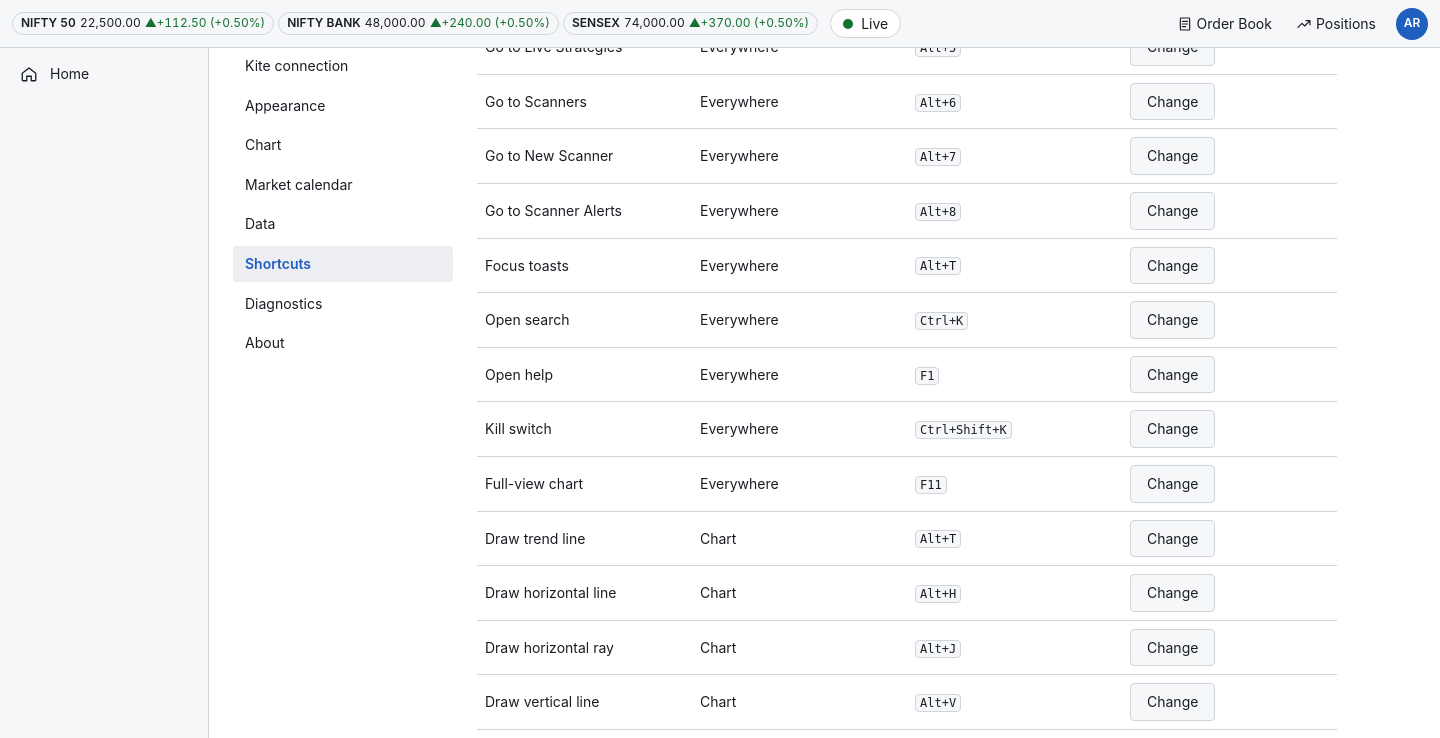
it: FR-SHELL-019 Settings → Shortcuts › Escape cancels without saving
(page scrolled)
Click the button named "Change shortcut for Kill switch": x=1173, y=429 [1130,410,1215,448]
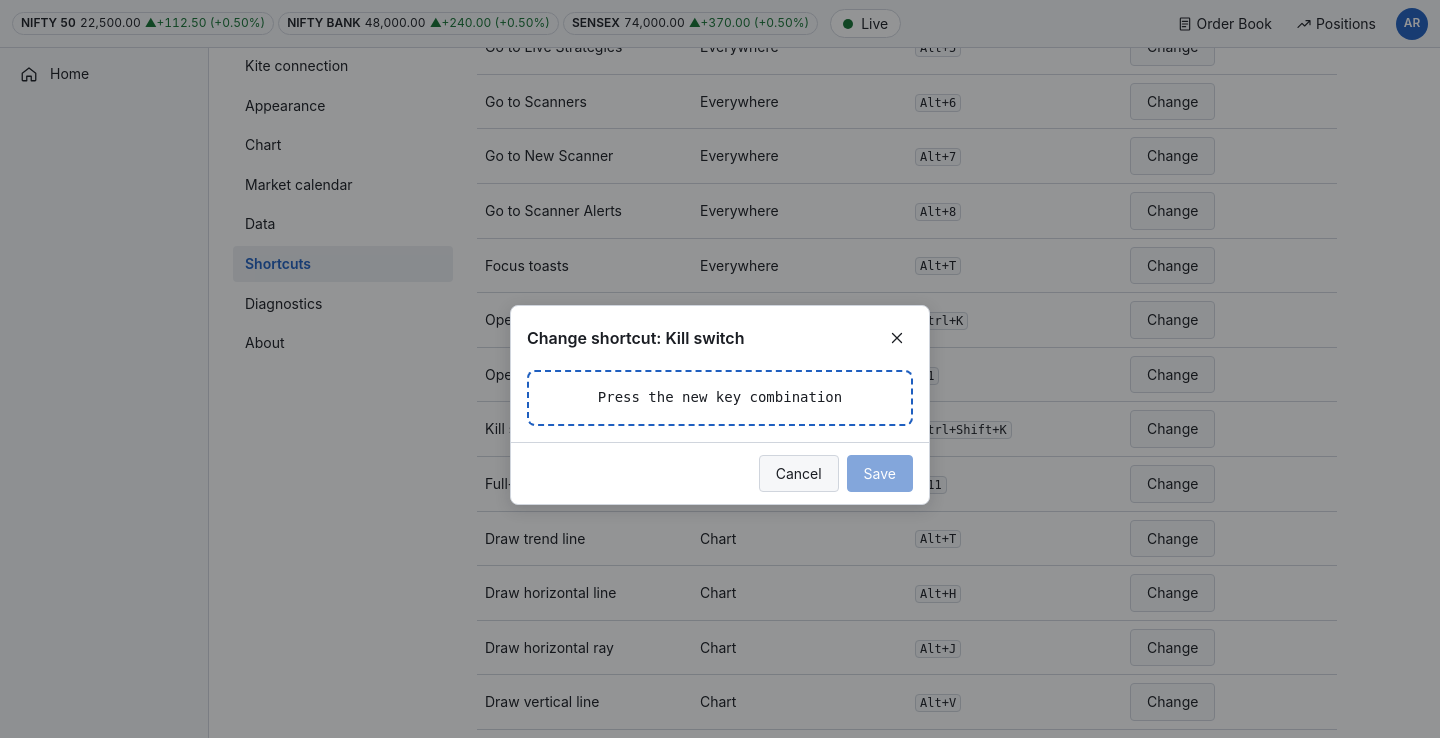
Type keys "{Control>}{Shift>}x{/Shift}{/Control}"
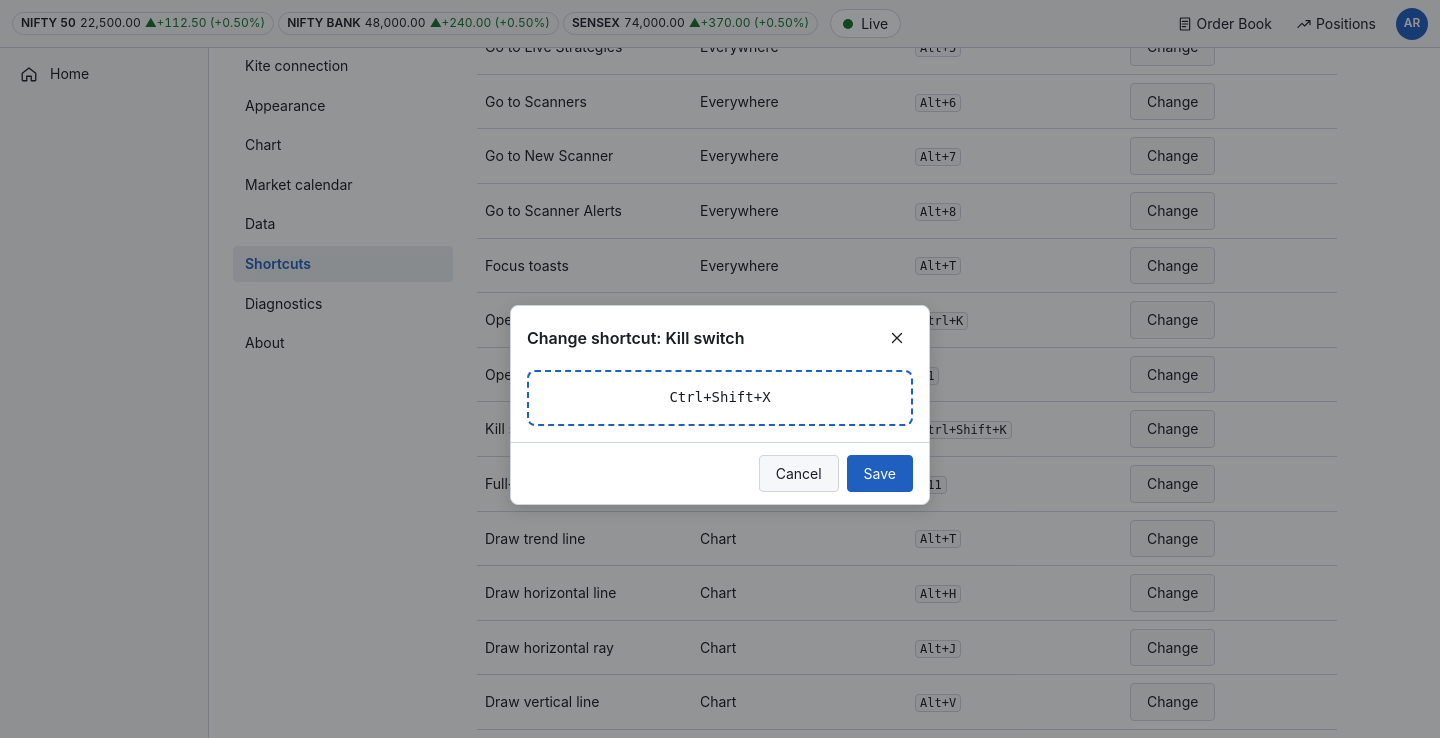
Press Escape
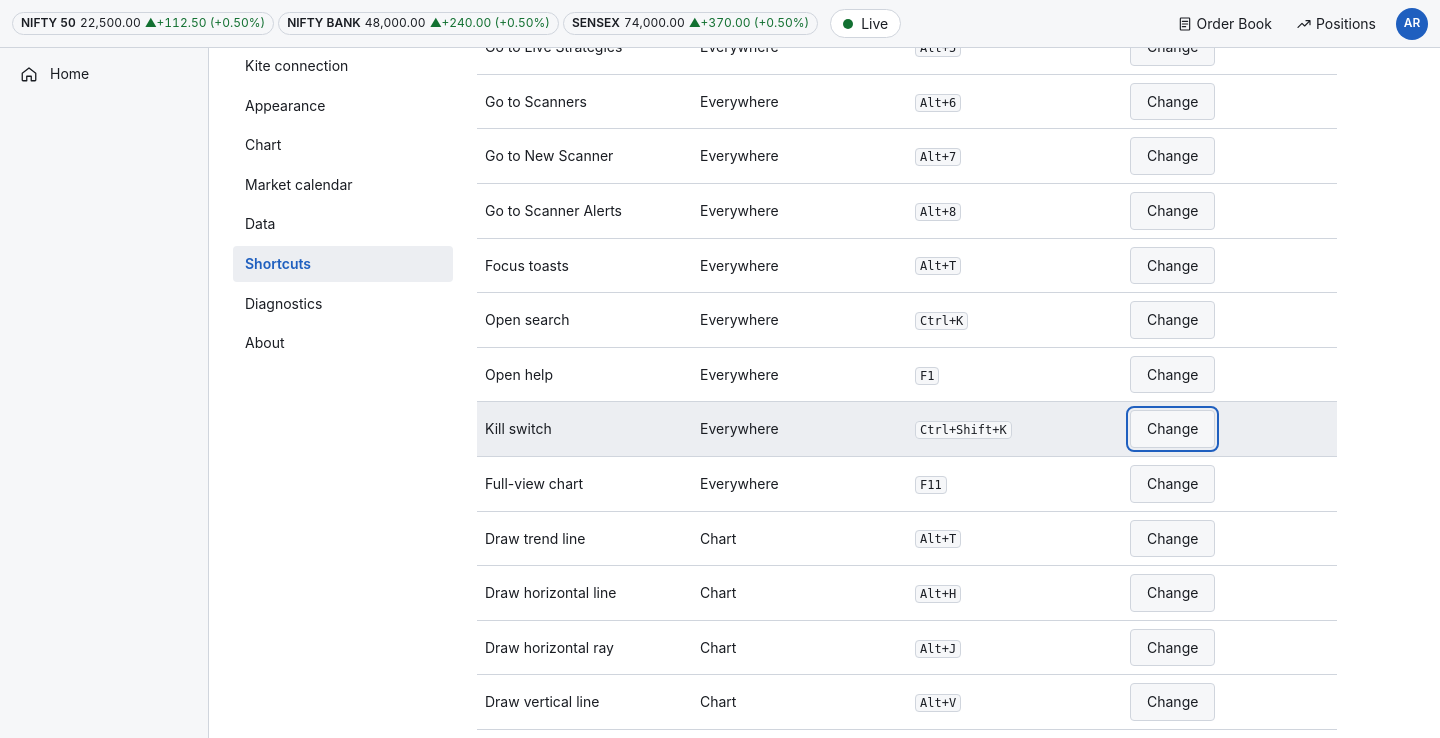
Now the dialog is gone
